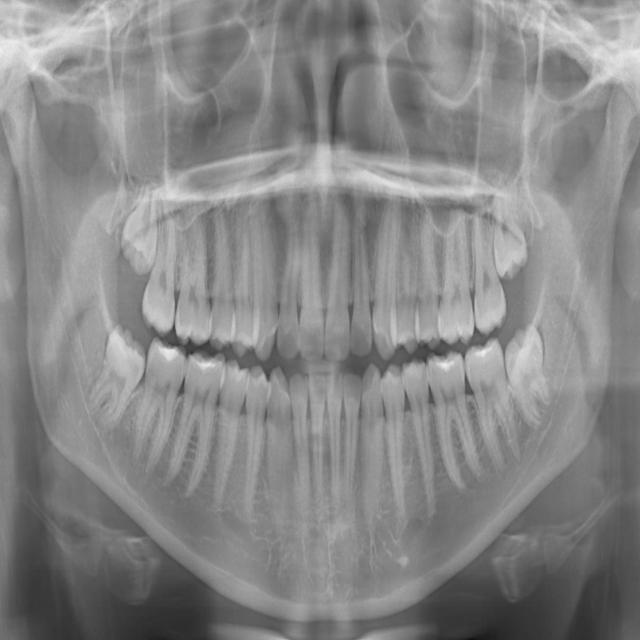3M ESPE Implant: (116, 177, 163, 277)
AGS Medikal Implant: (460, 334, 526, 480)
AMerOss Implant: (419, 344, 493, 504)
Amalgam filling: (162, 204, 169, 245)
Anthogyr Implant: (399, 355, 455, 517)
Bicon Implant: (380, 361, 416, 522)
BioHorizons Implant: (360, 361, 384, 525)
BioLife Implant: (340, 371, 362, 507)
Biomet 3i Implant: (323, 369, 345, 507)
Blue Sky Bio Implant: (305, 371, 327, 512)
Camlog Implant: (288, 372, 312, 516)
Caries: (351, 191, 374, 358)
Composite filling: (266, 364, 293, 534)
Cowellmedi Implant: (236, 363, 270, 524)
Crown: (197, 357, 252, 515)
DENTSPLY Implant: (174, 202, 210, 348)
Dentatus Implant: (159, 347, 227, 501)
Dentis Implant: (126, 336, 189, 478)
Dentium Implant: (77, 321, 157, 437)
Euroteknika Implant: (209, 200, 236, 351)
Filling: (226, 191, 254, 358)
Frontier Implant: (249, 174, 280, 363)
Hiossen Implant: (370, 191, 401, 361)
Implant: (299, 189, 324, 363)
Implant Direct: (275, 206, 302, 359)
Keystone Dental Implant: (324, 191, 355, 362)
MIS Implant: (397, 211, 420, 355)
Mandible: (419, 199, 441, 350)
Maxilla: (429, 205, 476, 347)
Megagen Implant: (462, 204, 510, 339)
Neodent Implant: (477, 180, 532, 284)
Neoss Implant: (498, 320, 558, 433)
